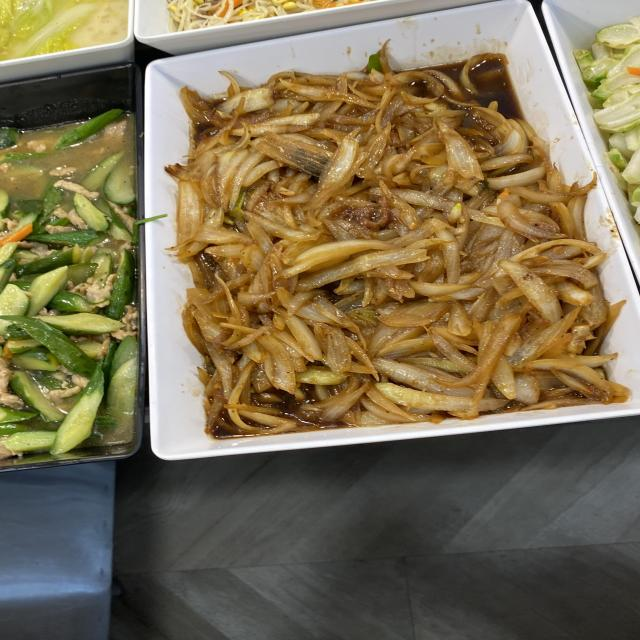Fried onions: (222, 117, 541, 396)
